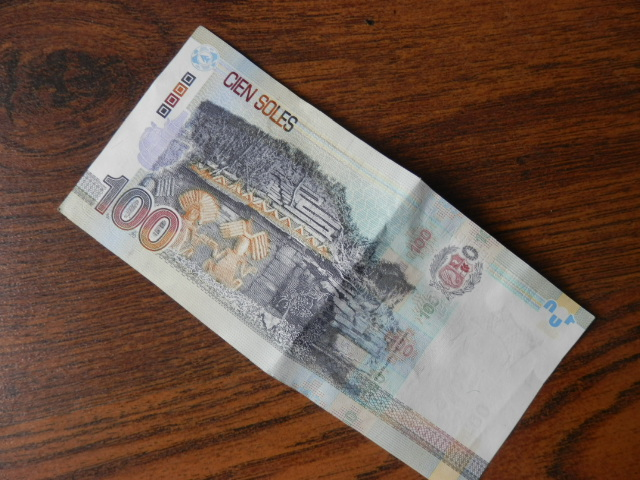B100: (65, 17, 601, 475)
